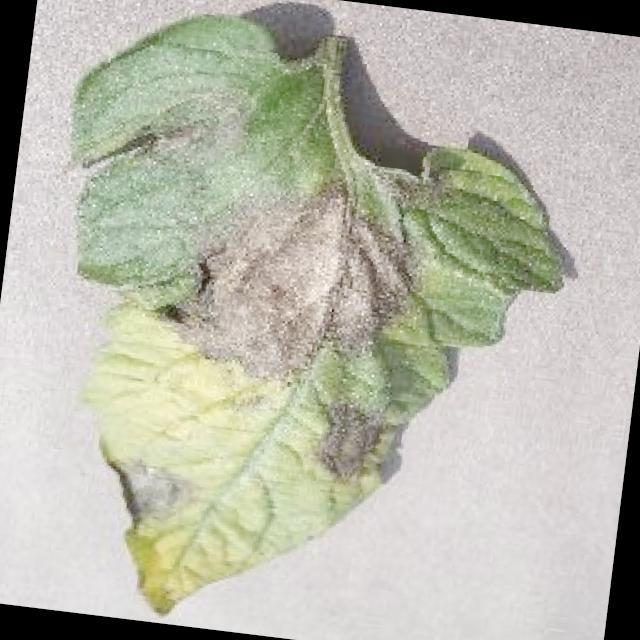Tomato late blight leaf: (6, 0, 597, 640)
